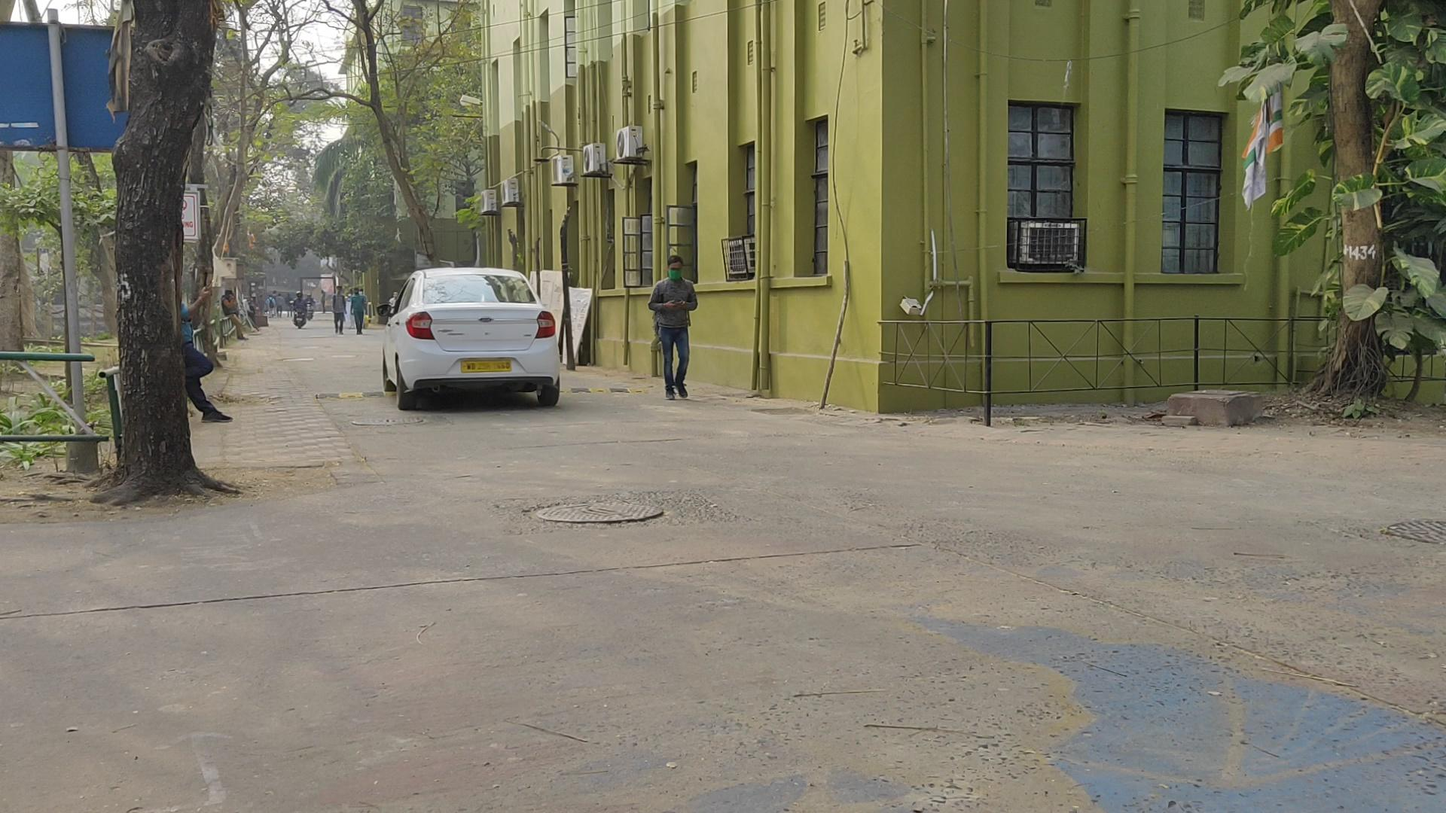bike: (289, 291, 310, 329)
car: (385, 269, 563, 410)
